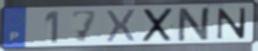1: (41, 10, 60, 46)
7: (70, 9, 100, 44)
N: (176, 6, 215, 43), (215, 6, 249, 40)
X: (141, 7, 175, 44), (105, 8, 139, 43)
